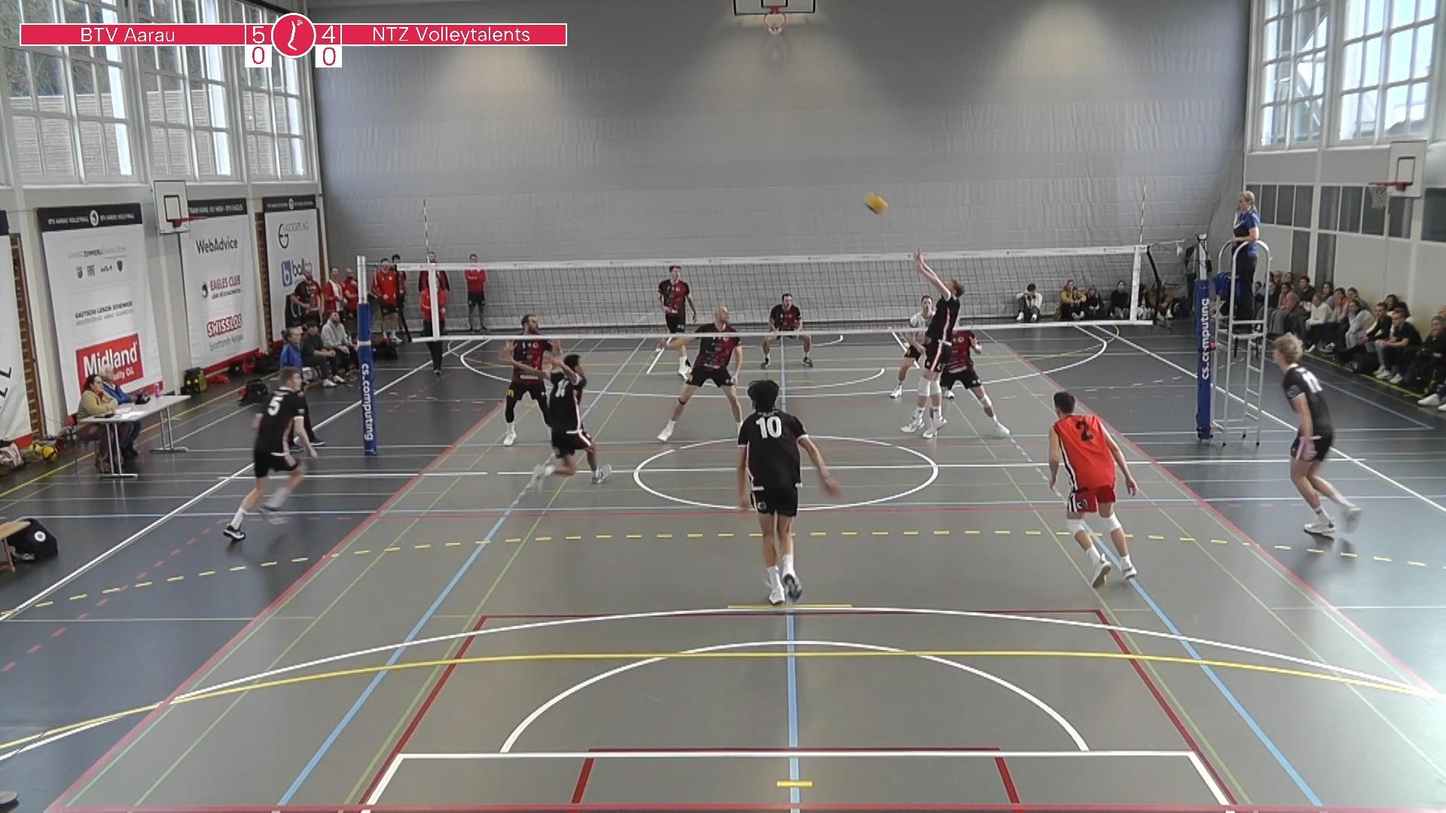Player: (737, 380, 840, 604), (1274, 334, 1361, 535), (1049, 392, 1136, 587), (223, 367, 317, 541), (657, 306, 742, 441), (528, 354, 610, 489), (501, 315, 560, 446), (941, 328, 1008, 437), (889, 295, 932, 398), (761, 293, 813, 368), (657, 266, 697, 333)
Set: (899, 251, 969, 447)
ball: (855, 188, 890, 217)
